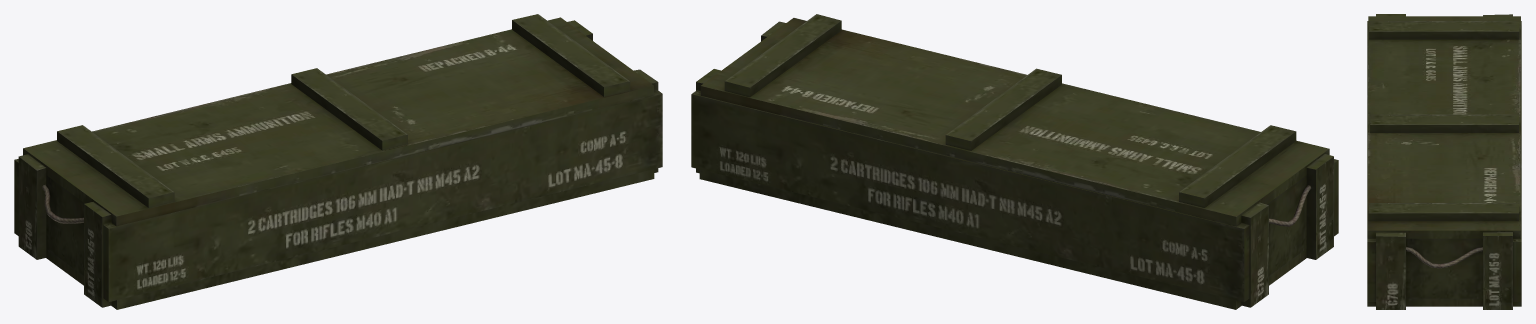
File: prop_nadecrate.glb
3 renders of one model, left to right at view 1: azimuth 30°, elevation 25°; view 2: azimuth 150°, elevation 25°; view 3: azimuth 270°, elevation 25°, orthographic. The views are drawn at different scales.
Visible parts, largest first — view 1: Object_4; view 2: Object_4; view 3: Object_4.
Part boxes in pixels (x1,y1,x2,y2): Object_4: [14, 14, 662, 309]; Object_4: [691, 14, 1338, 309]; Object_4: [1367, 14, 1521, 309].
Bounding box in the file's own units: 0.6325 × 0.1093 × 0.1822.
Materials: 1 (1 with a texture image).
